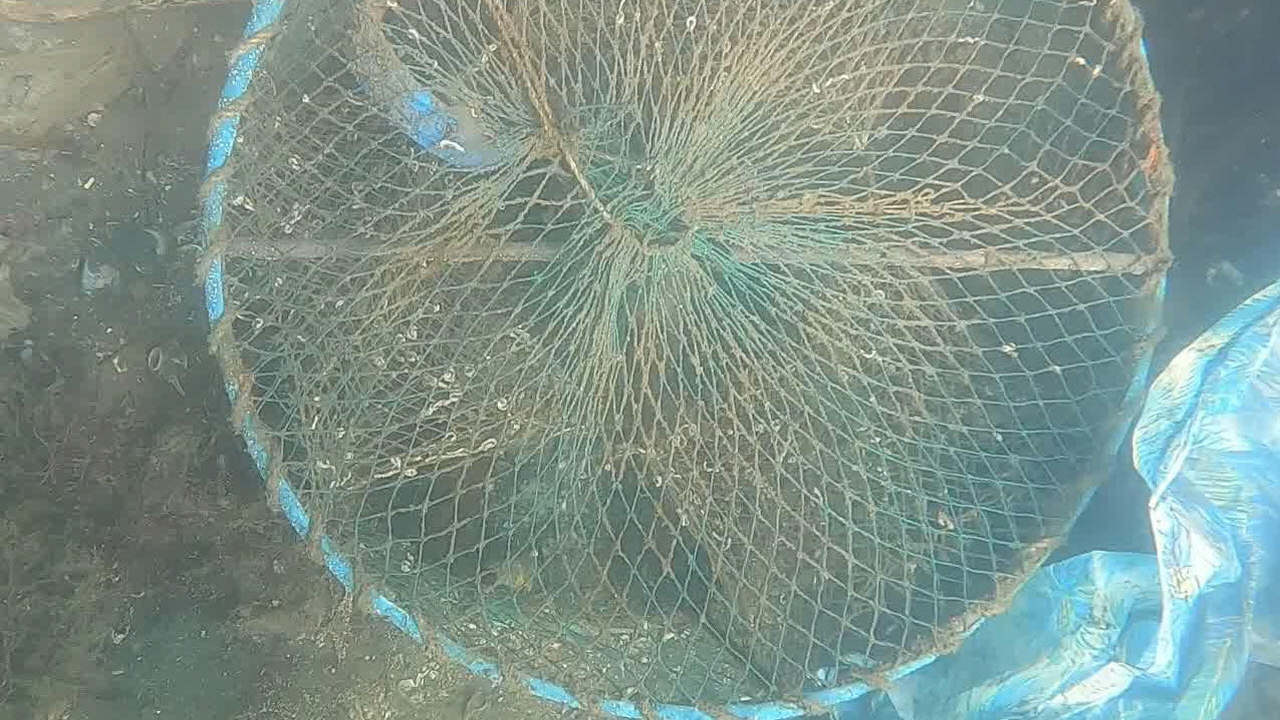circular fish trap: (202, 0, 1172, 720)
